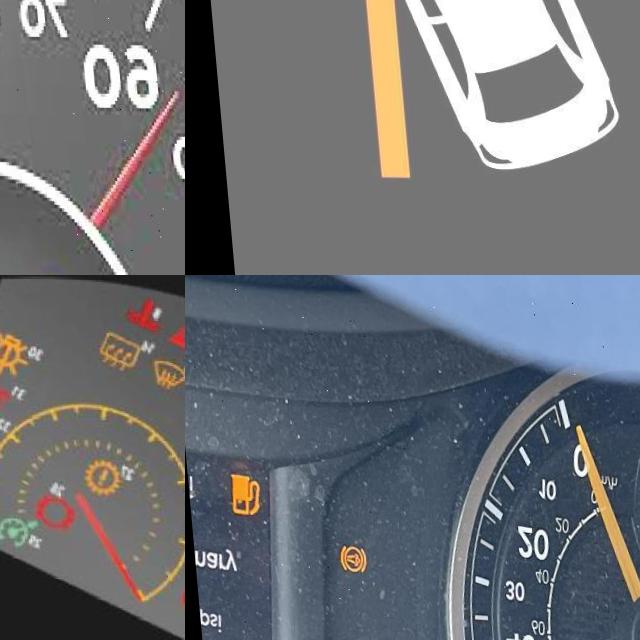High Engine Coolant Temperature: (123, 293, 171, 336)
